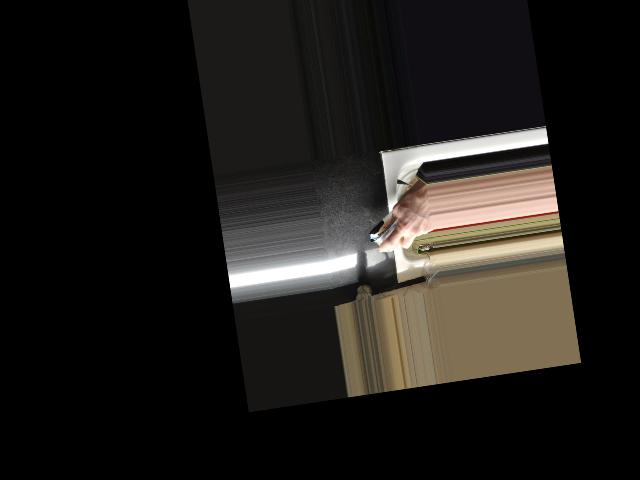cheese: (362, 196, 431, 252)
